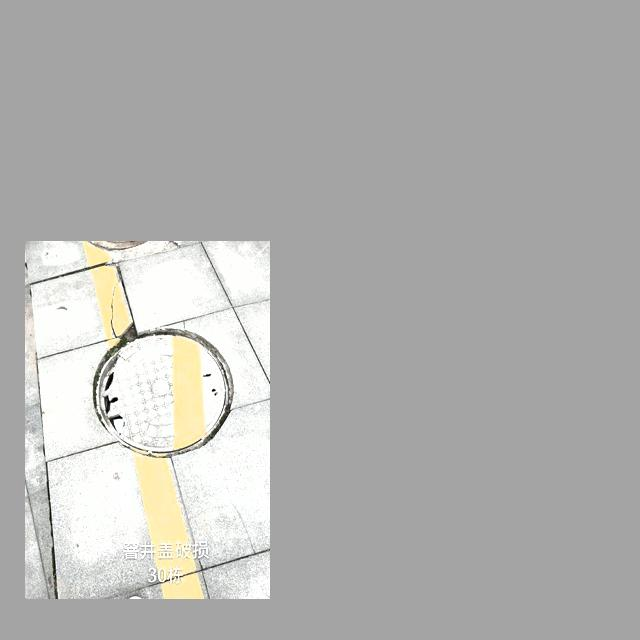broke: (87, 328, 237, 462)
